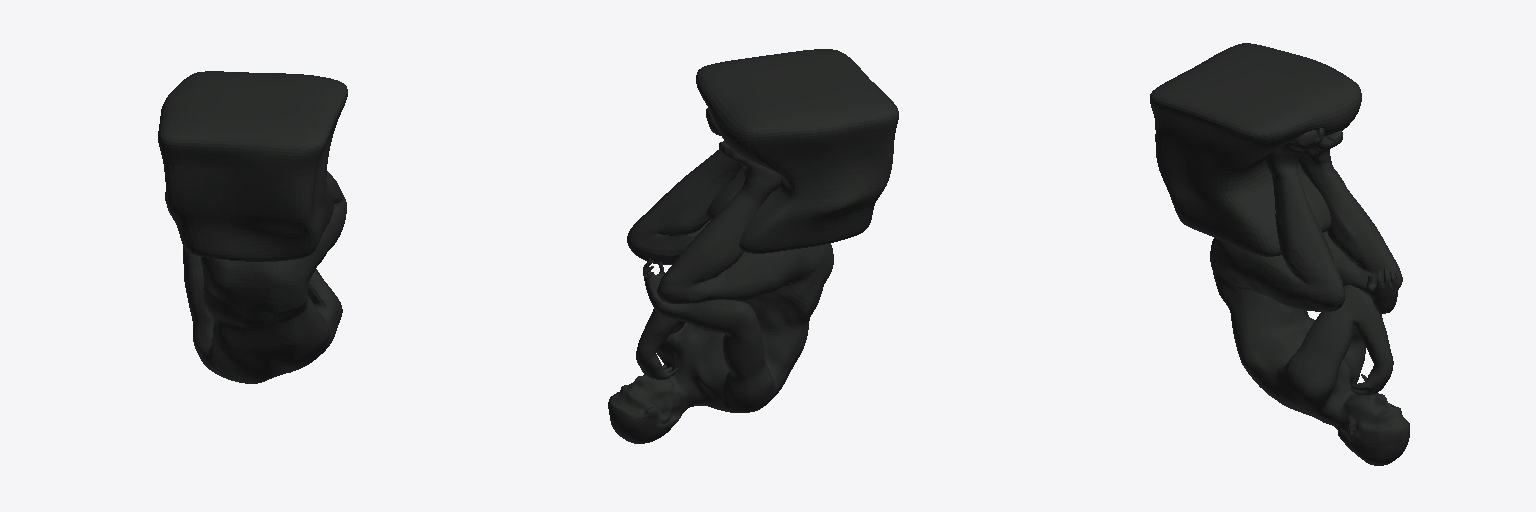
File: estatua.obj
3 views of the same model, side by side, from view 1: azimuth 30°, elevation 25°; view 2: azimuth 150°, elevation 25°; view 3: azimuth 270°, elevation 25° (orthographic).
Visible parts, largest first — view 1: 12335_The_Thinker_v3_l2; view 2: 12335_The_Thinker_v3_l2; view 3: 12335_The_Thinker_v3_l2.
Boxes of the visible parts, box(x1,y1,x2,y2) form: 12335_The_Thinker_v3_l2: box(158, 71, 347, 383); 12335_The_Thinker_v3_l2: box(608, 49, 898, 443); 12335_The_Thinker_v3_l2: box(1150, 43, 1409, 465).
Bounding box in the file's own units: 0.3398 × 0.4887 × 0.3422.